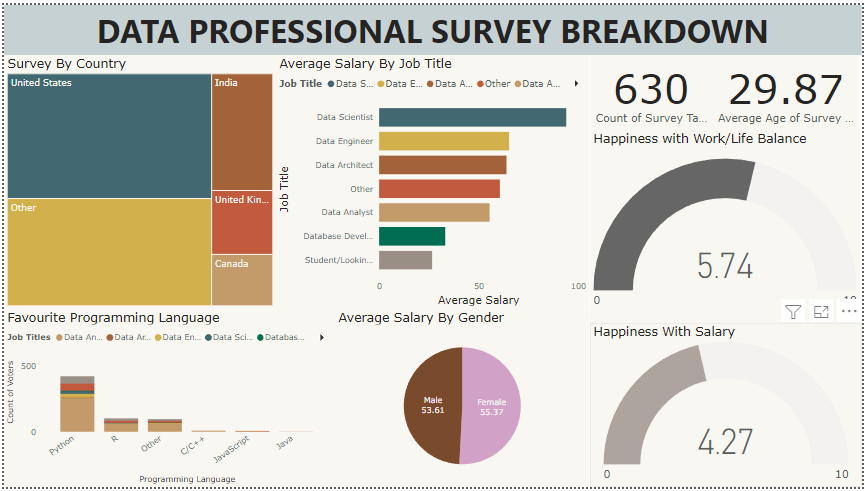

The page's visual inventory and layout, read from the dashboard file:
{"tool":"powerbi","page":{"name":"Page 1","canvas":[1280,720],"ordinal":0},"visuals":[{"type":"textbox","box":[0,0,1280,75.4],"z":0},{"type":"card","fields":{"Values":["Count(Data Professional Survey.Unique ID)"]},"box":[874.1,74.9,182.9,112.3],"z":1000},{"type":"card","fields":{"Values":["Avg(Data Professional Survey.Q10 - Current Age)"]},"box":[1057,74.9,220.3,112.3],"z":2000},{"type":"barChart","title":"Average Salary By Job Title ","fields":{"Category":["Data Professional Survey.Q1 - Which Title Best Fits your Current Role?.1"],"Y":["Avg(Data Professional Survey.Average Salary)"],"Series":["Data Professional Survey.Q1 - Which Title Best Fits your Current Role?.1"]},"box":[406.1,74.9,468,378.7],"z":3000},{"type":"columnChart","title":"Favourite Programming Language","fields":{"Category":["Data Professional Survey.Q5 - Favorite Programming Language.1"],"Y":["Count(Data Professional Survey.Unique ID)"],"Series":["Data Professional Survey.Q1 - Which Title Best Fits your Current Role?.1"]},"box":[0,453.6,493.9,266.4],"z":4000},{"type":"treemap","title":"Survey By Country","fields":{"Group":["Data Professional Survey.Q11 - Which Country do you live in?.1"],"Values":["CountNonNull(Data Professional Survey.Q11 - Which Country do you live in?.1)"]},"box":[0,74.9,406.1,378.7],"z":4001},{"type":"gauge","title":"Happiness with Work/Life Balance","fields":{"Y":["Avg(Data Professional Survey.Q6 - How Happy are you in your Current Position with the following? (Work/Life Balance))"],"MinValue":["Min(Data Professional Survey.Q6 - How Happy are you in your Current Position with the following? (Work/Life Balance))"],"MaxValue":["Max(Data Professional Survey.Q6 - How Happy are you in your Current Position with the following? (Work/Life Balance))"]},"box":[874.1,187.2,403.2,288],"z":4002},{"type":"gauge","title":"Happiness With Salary","fields":{"Y":["Avg(Data Professional Survey.Q6 - How Happy are you in your Current Position with the following? (Salary))"],"MinValue":["Min(Data Professional Survey.Q6 - How Happy are you in your Current Position with the following? (Salary))1"],"MaxValue":["Max(Data Professional Survey.Q6 - How Happy are you in your Current Position with the following? (Salary))2"]},"box":[874.1,475.2,406.1,244.8],"z":4003},{"type":"pieChart","title":"Average Salary By Gender","fields":{"Y":["Avg(Data Professional Survey.Average Salary)"],"Category":["Data Professional Survey.Q9 - Male/Female?"]},"box":[493.9,453.6,380.2,266.4],"z":4004}]}

Visuals, with their boxes in screenshot pixels (x1, y1, x2, y2), scaled from the page's 1280x720 canvas onto the 865x491 screenshot:
textbox: locate(0, 0, 864, 51)
card - Count(Data Professional Survey.Unique ID): locate(591, 51, 714, 128)
card - Avg(Data Professional Survey.Q10 - Current Age): locate(714, 51, 863, 128)
"Average Salary By Job Title " barChart: locate(274, 51, 591, 309)
"Favourite Programming Language" columnChart: locate(0, 309, 334, 490)
"Survey By Country" treemap: locate(0, 51, 274, 309)
"Happiness with Work/Life Balance" gauge: locate(591, 128, 863, 324)
"Happiness With Salary" gauge: locate(591, 324, 864, 490)
"Average Salary By Gender" pieChart: locate(334, 309, 591, 490)
